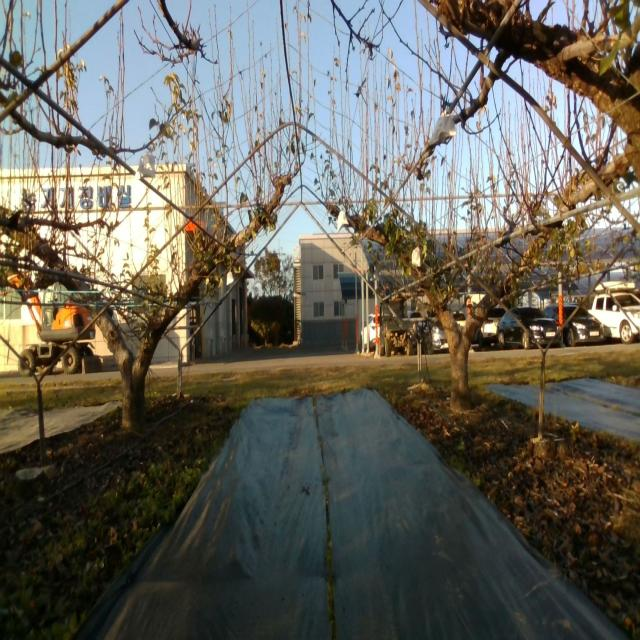pearbags: (427, 110, 457, 149), (135, 147, 156, 180), (336, 210, 349, 237)
